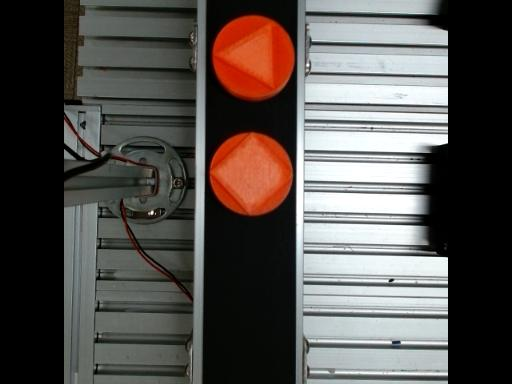Not_Square: (213, 20, 275, 89)
Orange_Waper: (212, 14, 295, 101), (210, 131, 293, 215)
Square: (208, 130, 294, 215)
